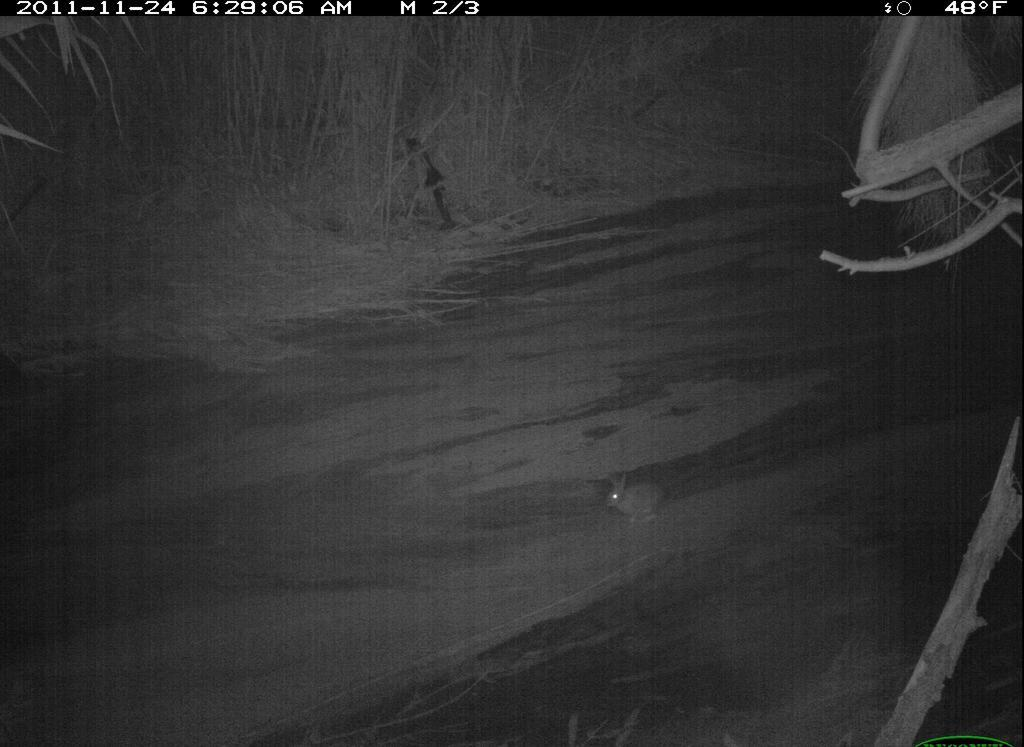rabbit: (591, 466, 687, 536)
